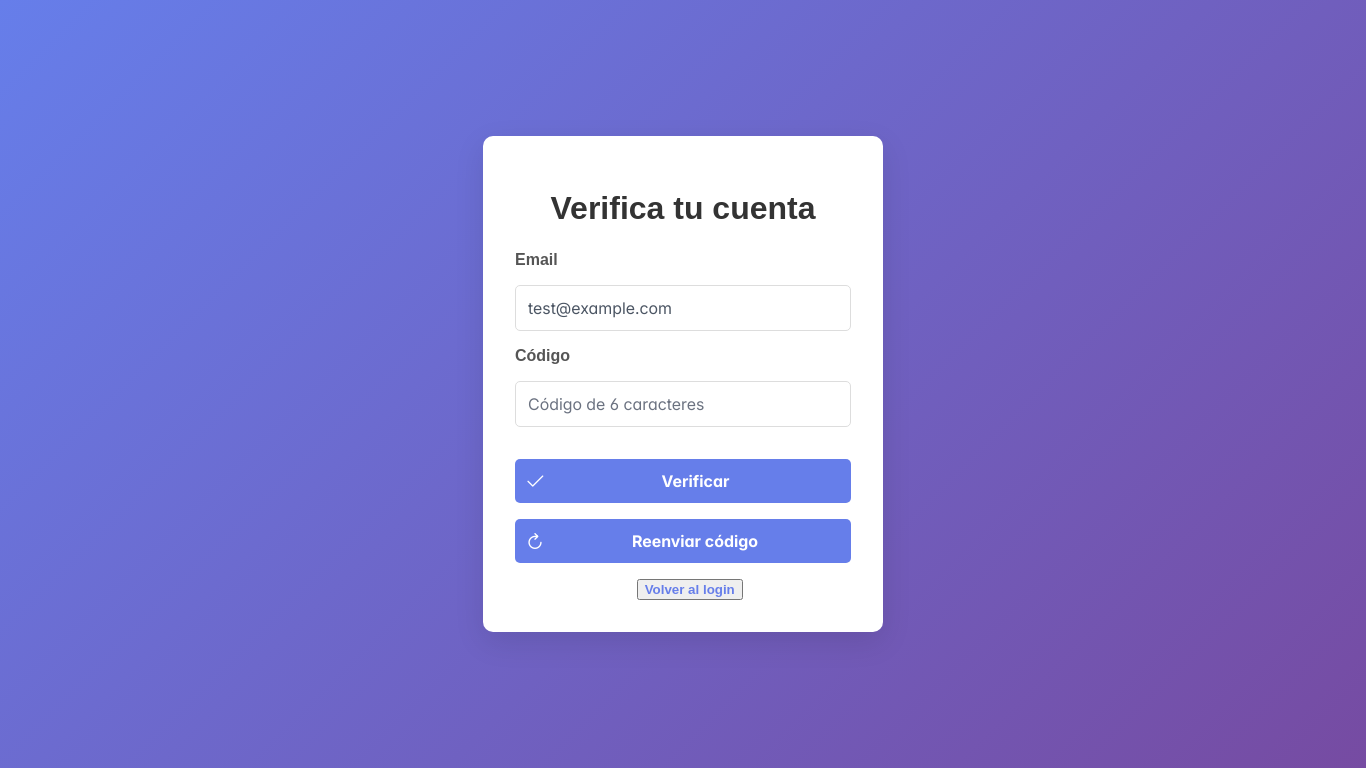
it: Verify Component › shows warning on verify with missing code
The image size is (1366, 768).
Click the button "Verificar".
click(683, 481)  # box [515,459,851,503]
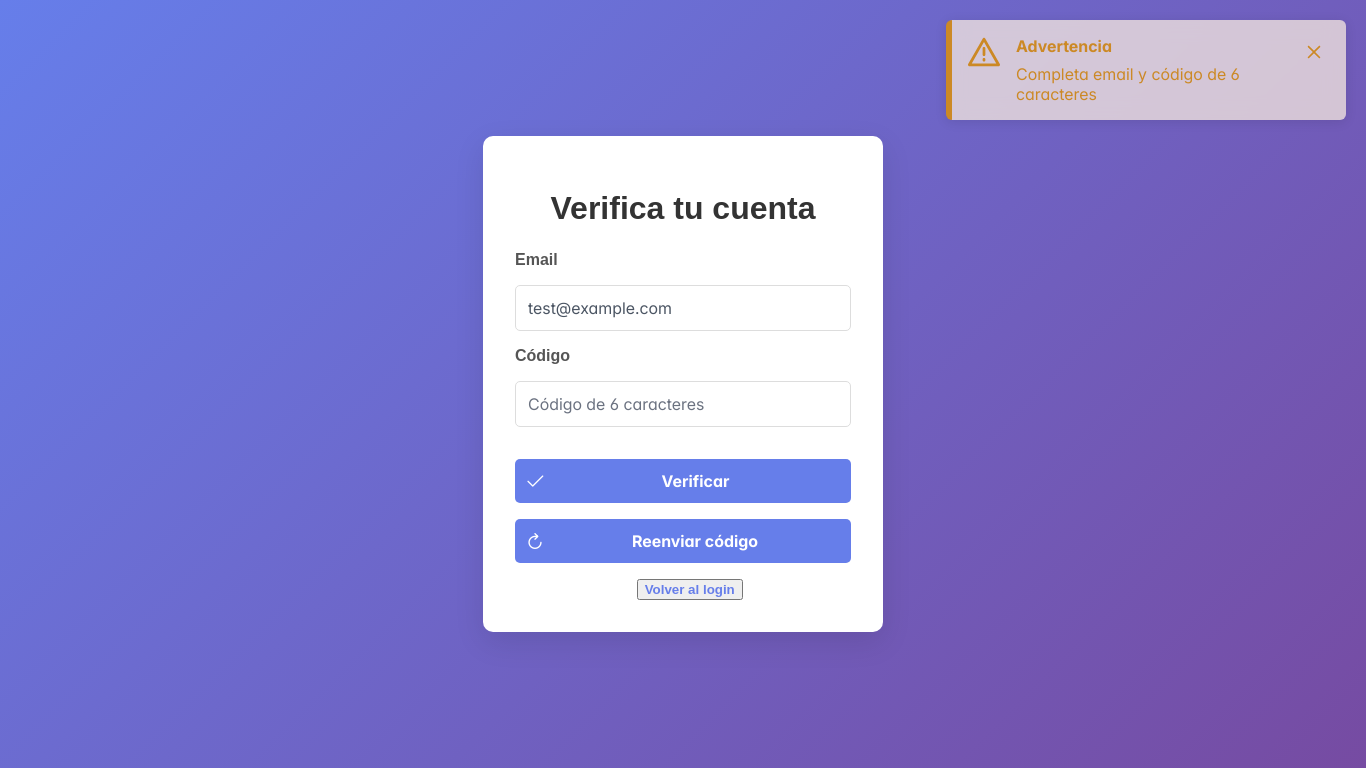
Result: the text "Completa email y código de 6 caracteres" is shown at [1016,64,1240,104]
